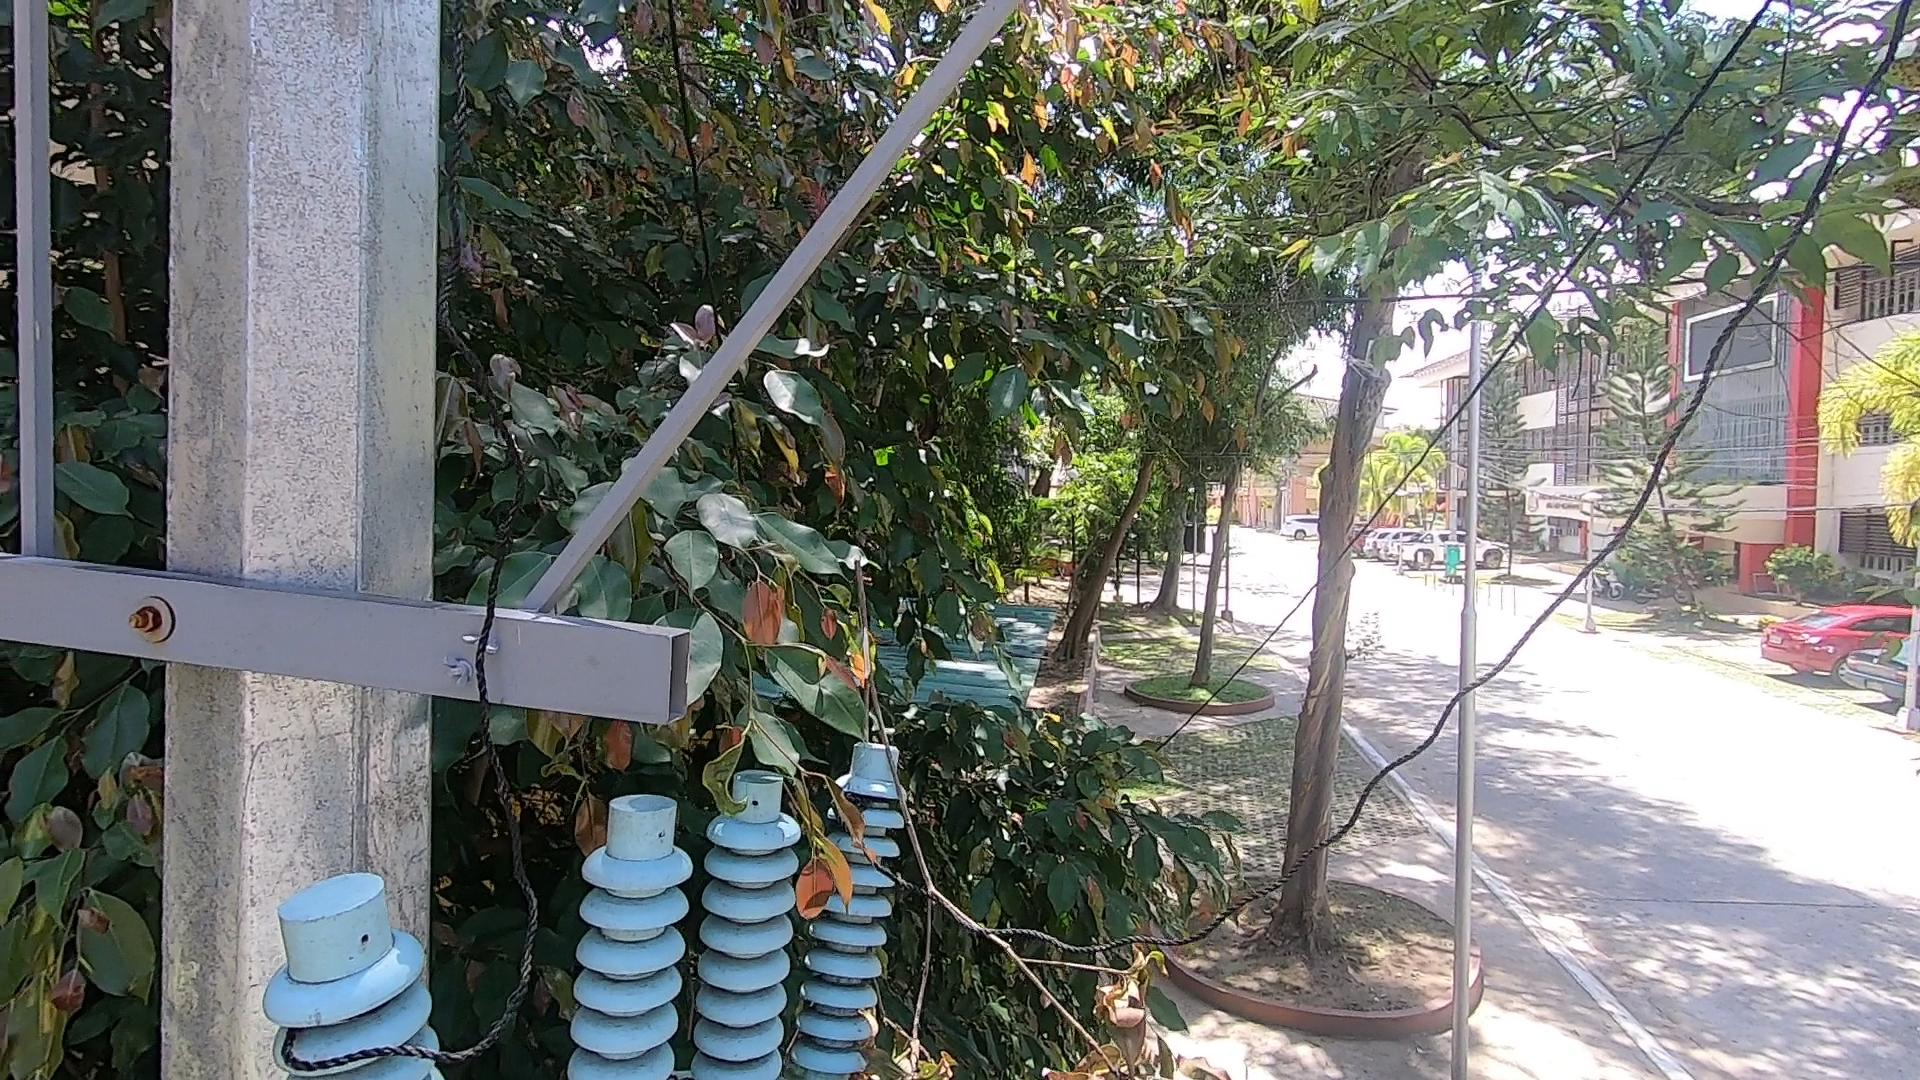branch with leaves: (831, 549, 1240, 1080)
